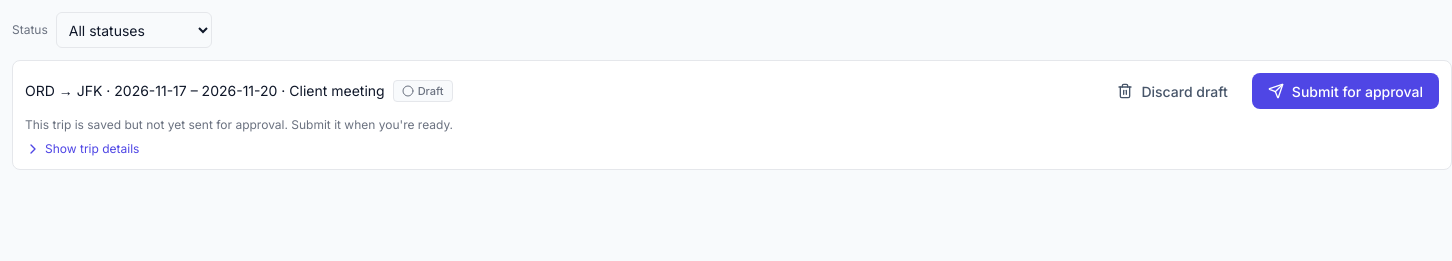
it: TripList › titles cards by route, dates and purpose and opens to the saved legs
Expected: the text "ORD → JFK · 2026-11-17 – 2026-11-20 · Client meeting" is shown, [25,81,385,101]
Expected: the text "Hotel · Hilton" is not shown
Click the button "Show trip details".
click(82, 149)  # box [25,141,139,157]
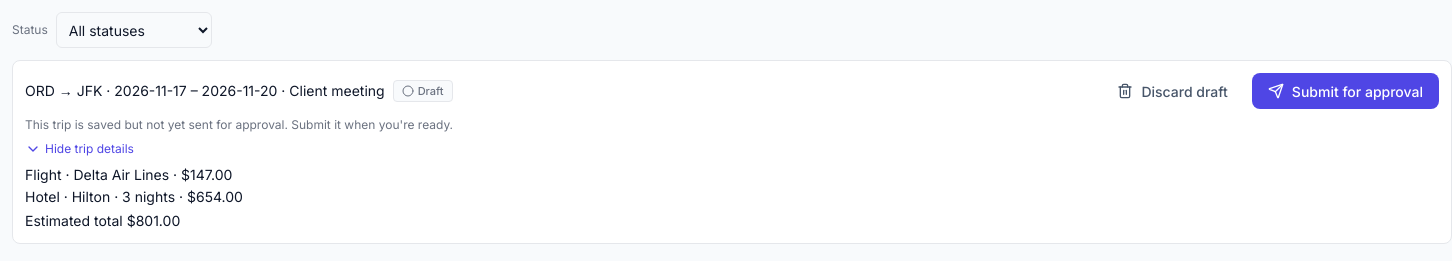
Expected: the list item "Hotel · Hilton · 3 nights · $654.00" is shown, [25,188,243,205]
Expected: the text "Estimated total $801.00" is shown, [25,212,180,229]
